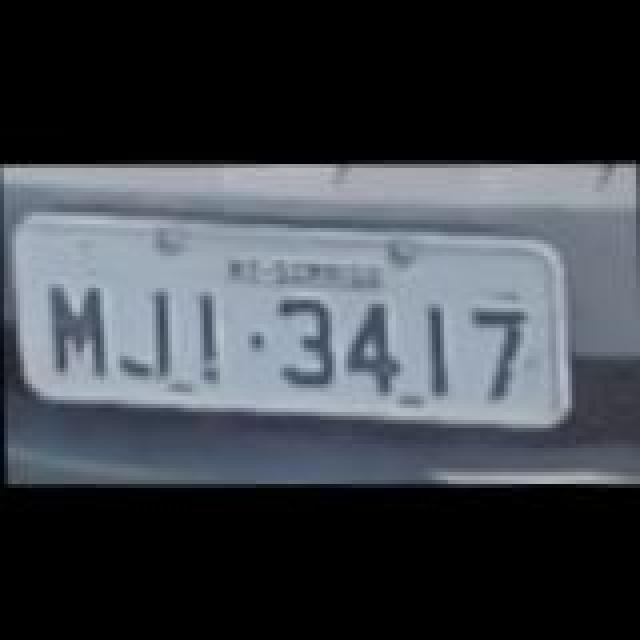1: (194, 290, 226, 382), (420, 306, 448, 398)
3: (274, 298, 338, 390)
4: (346, 302, 402, 394)
7: (470, 306, 534, 402)
J: (112, 290, 172, 378)
M: (46, 280, 110, 376)
